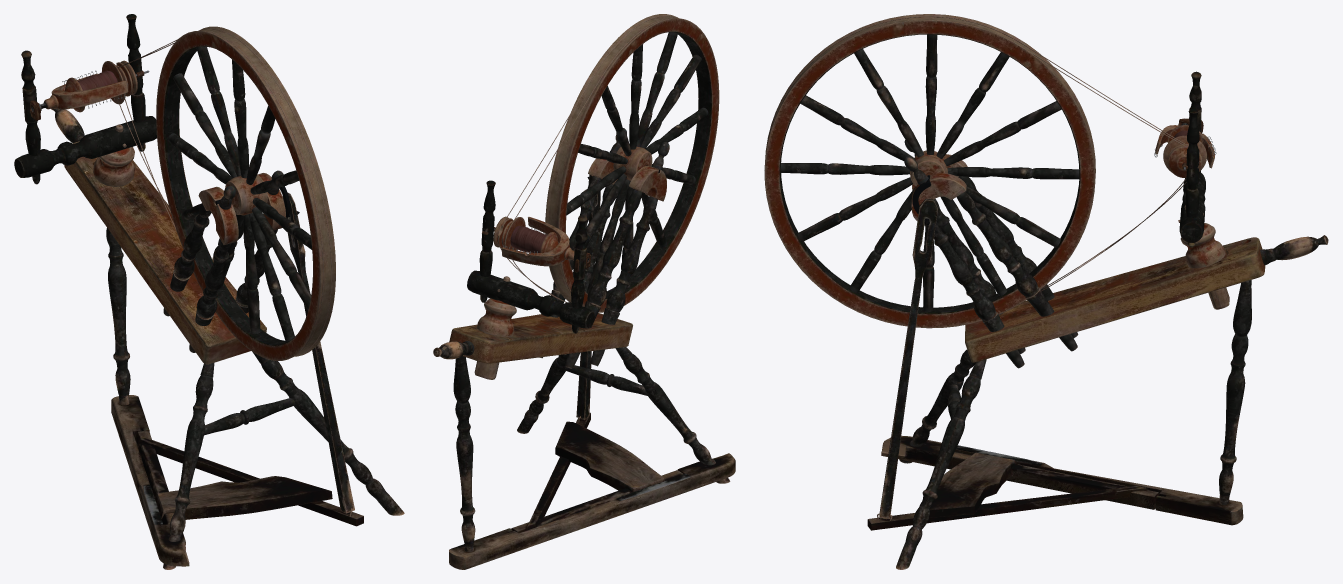
The model's file is spinning_wheel_01.glb.
3 views of the same model, side by side, from view 1: azimuth 30°, elevation 25°; view 2: azimuth 150°, elevation 25°; view 3: azimuth 270°, elevation 25° (orthographic). The views are drawn at different scales.
Visible parts, largest first — view 1: spinning_wheel_01; view 2: spinning_wheel_01; view 3: spinning_wheel_01.
Boxes of the visible parts, box(x1,y1,x2,y2) form: spinning_wheel_01: box(14, 14, 404, 569); spinning_wheel_01: box(433, 14, 735, 569); spinning_wheel_01: box(764, 14, 1328, 569).
Bounding box in the file's own units: 0.4893 × 0.9662 × 1.02.
Materials: 1 (1 with a texture image).
